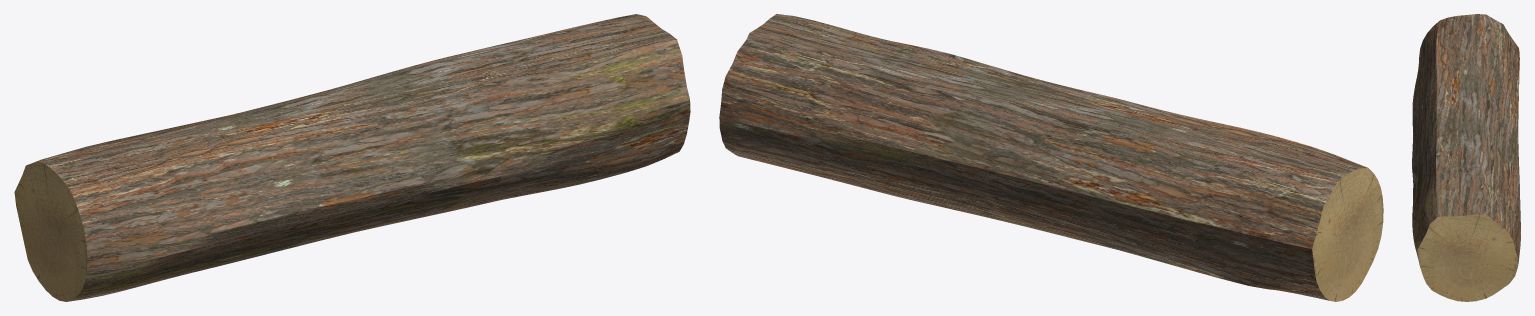
File: TreeBrokenLogs.fbx
3 views of the same model, side by side, from view 1: azimuth 30°, elevation 25°; view 2: azimuth 150°, elevation 25°; view 3: azimuth 270°, elevation 25° (orthographic). The views are drawn at different scales.
Visible parts, largest first — view 1: Cylinder.003, Cylinder.004, Cylinder.002; view 2: Cylinder.003, Cylinder.002, Cylinder.004; view 3: Cylinder.004, Cylinder.003, Cylinder.002.
Boxes of the visible parts, bbox=[...] form: Cylinder.003: bbox=[14, 110, 304, 301]; Cylinder.004: bbox=[448, 14, 690, 205]; Cylinder.002: bbox=[250, 57, 501, 249]; Cylinder.003: bbox=[1104, 110, 1383, 301]; Cylinder.002: bbox=[908, 59, 1159, 249]; Cylinder.004: bbox=[719, 14, 968, 204]; Cylinder.004: bbox=[1412, 148, 1520, 301]; Cylinder.003: bbox=[1412, 14, 1519, 127]; Cylinder.002: bbox=[1412, 85, 1519, 199].
Bounding box in the file's own units: 992 × 213 × 226.
